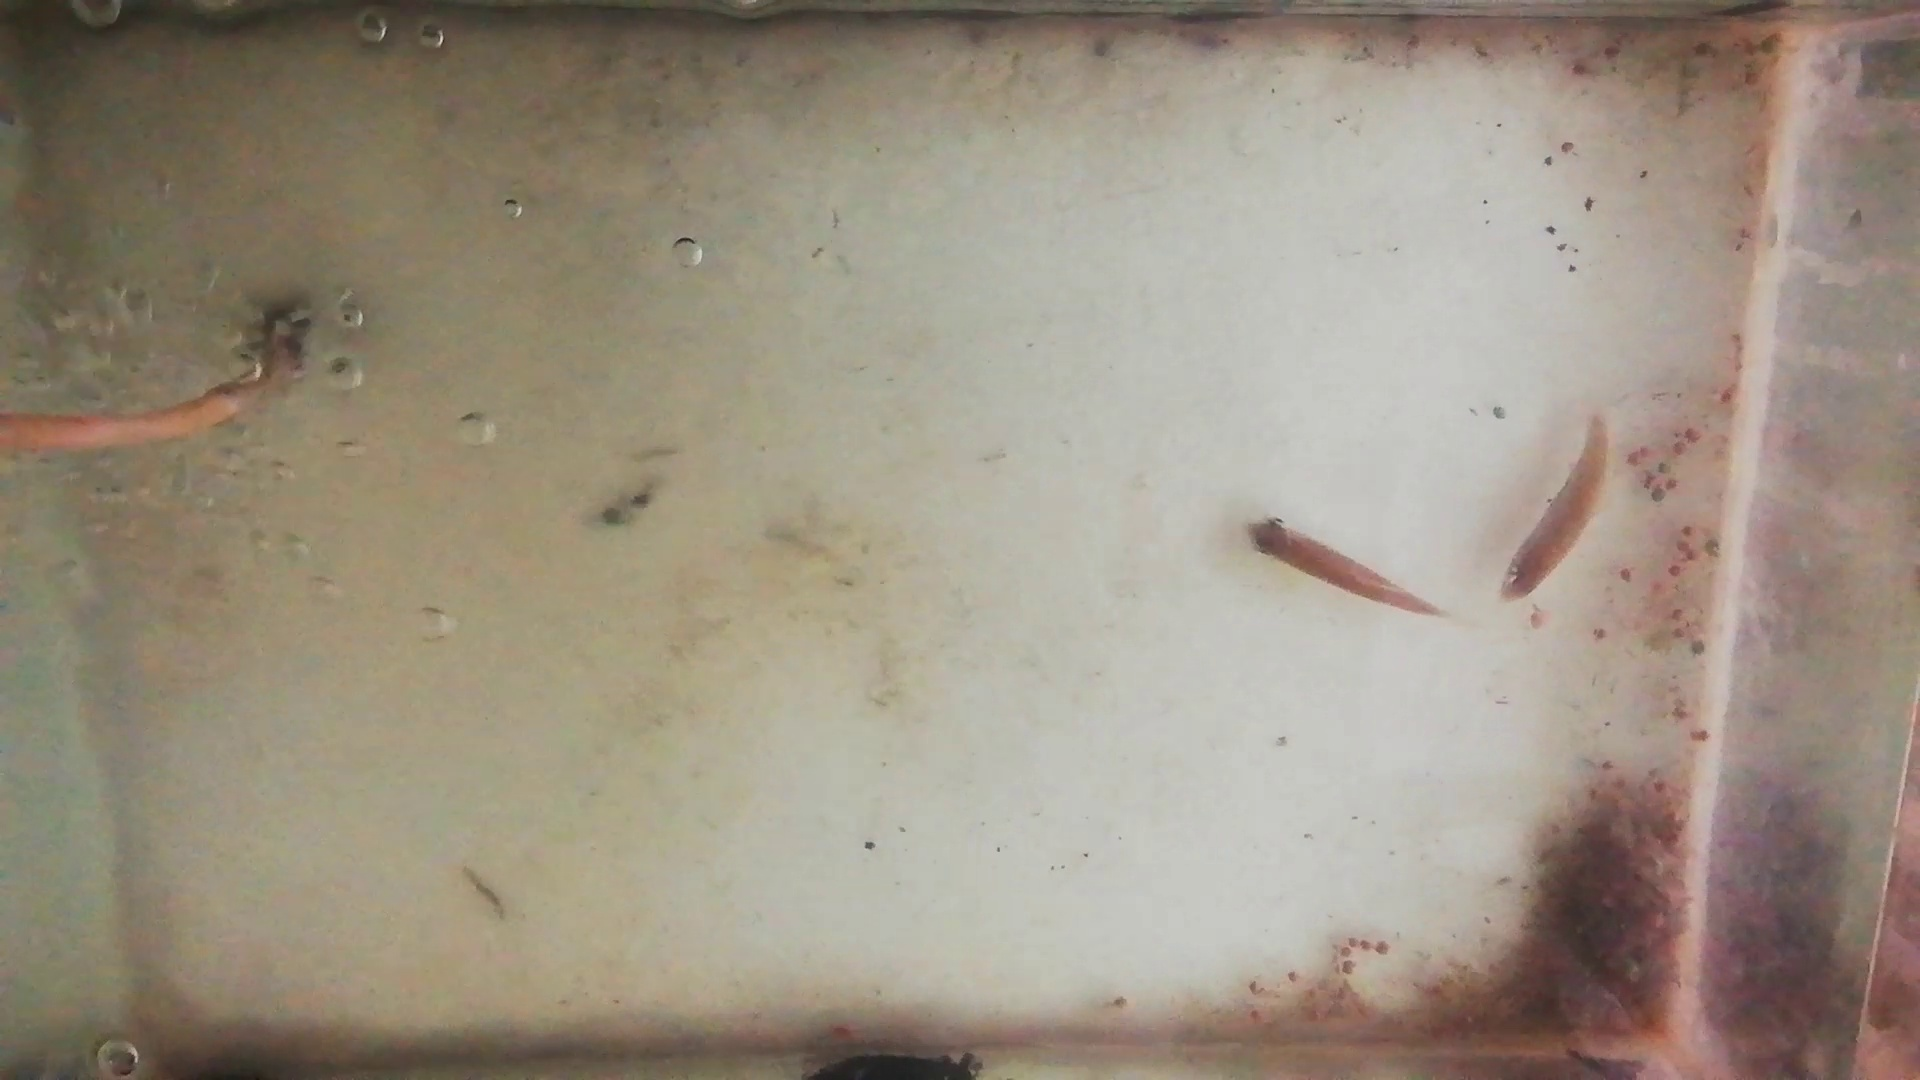fish: (1495, 415, 1611, 604), (1245, 517, 1437, 618)
